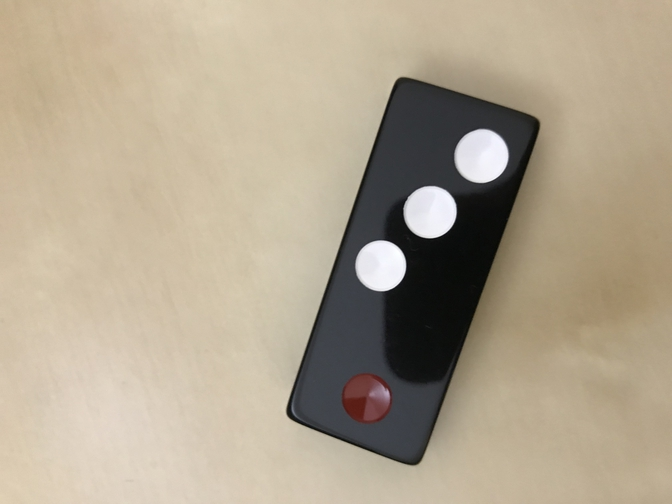goose: (286, 75, 540, 466)
